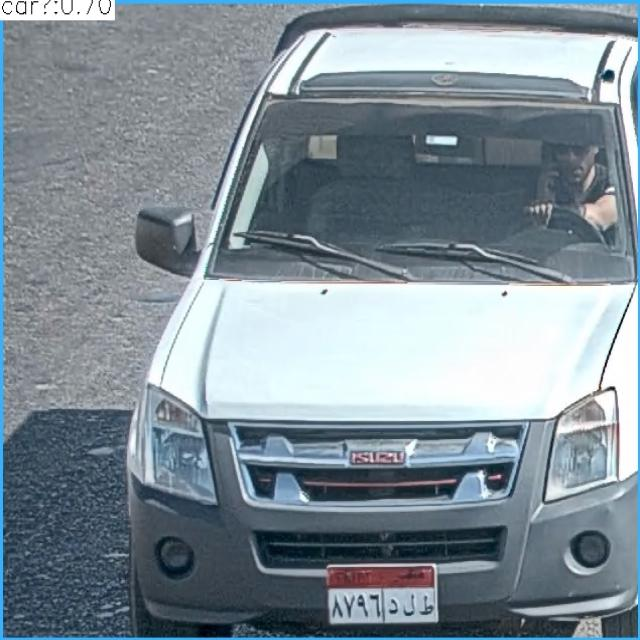windshield: (205, 89, 633, 292)
